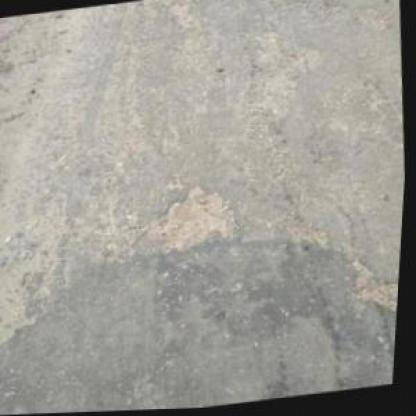pothole: (152, 177, 247, 254), (362, 280, 401, 316)
